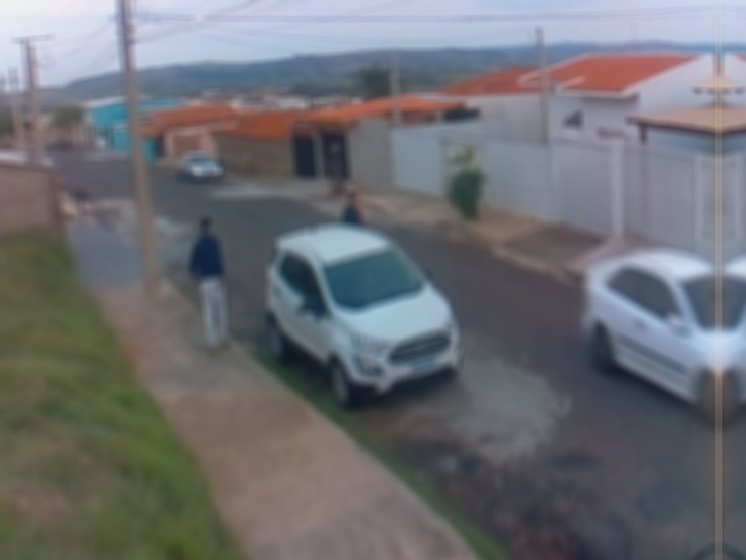person: (188, 215, 232, 355), (340, 190, 368, 233)
